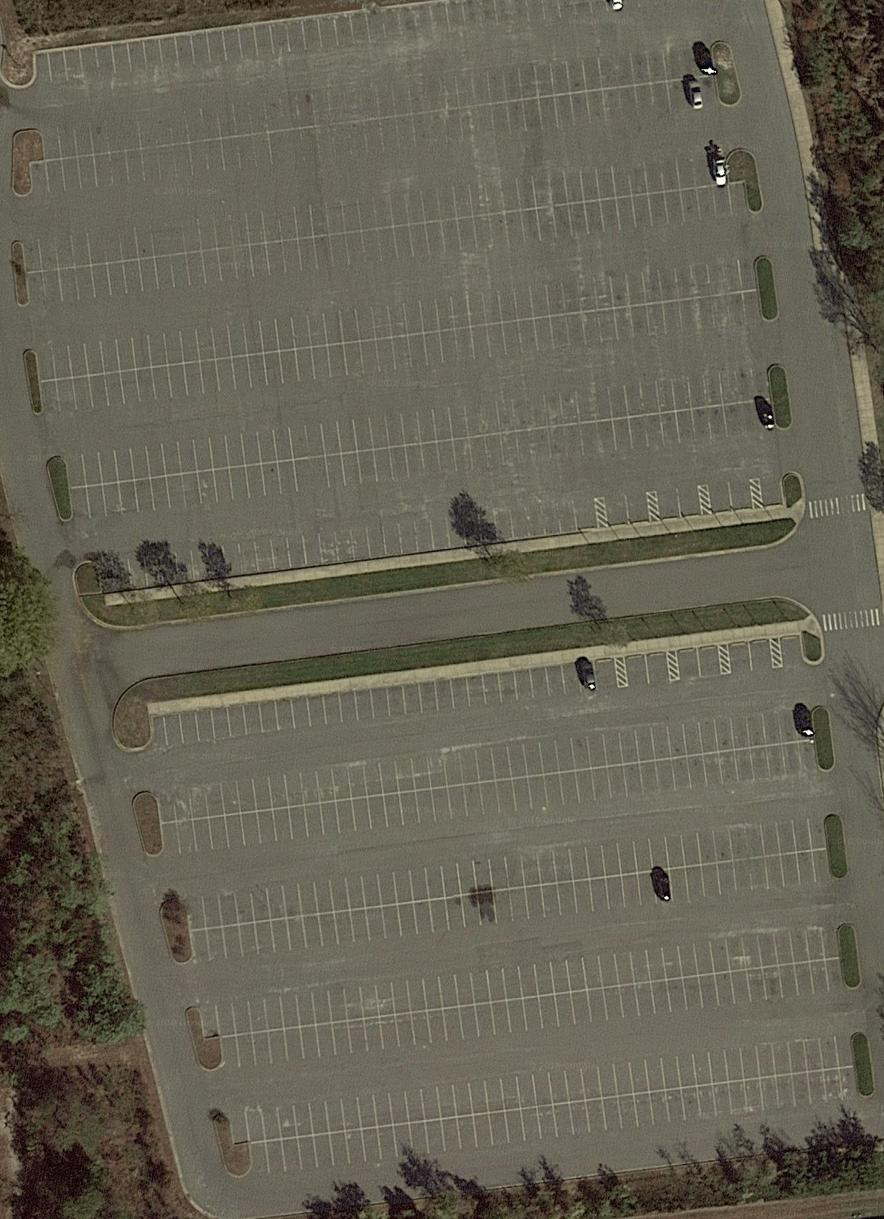parkingspot: (33, 254, 761, 385), (36, 287, 765, 417), (25, 179, 752, 308), (62, 363, 775, 491), (66, 397, 780, 524), (19, 151, 732, 274), (28, 73, 725, 197), (38, 40, 718, 163), (159, 739, 823, 860), (153, 705, 816, 825), (187, 846, 836, 967), (183, 812, 830, 933), (199, 923, 843, 1041), (217, 955, 847, 1072), (226, 1032, 856, 1147), (247, 1064, 861, 1179), (33, 0, 645, 87), (95, 496, 600, 595), (149, 655, 620, 753), (622, 648, 672, 689), (727, 636, 775, 677), (675, 643, 724, 683), (603, 490, 653, 528), (706, 477, 755, 515), (655, 483, 703, 521), (778, 632, 808, 671), (758, 471, 786, 507)
